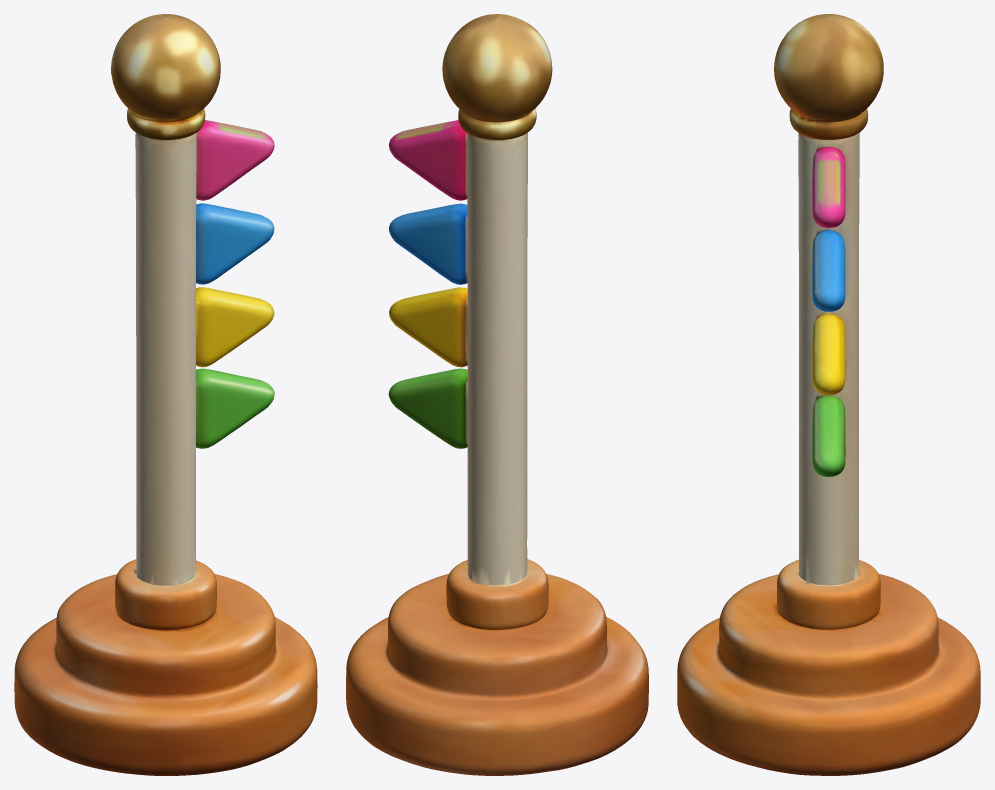
File: team-flagpole.glb
3 renders of one model, left to right at view 1: azimuth 30°, elevation 25°; view 2: azimuth 150°, elevation 25°; view 3: azimuth 270°, elevation 25°, orthographic.
Visible parts, largest first — view 1: tripo_node_68dac811-7f3c-4b89-9ffa-64b9f9a3621f; view 2: tripo_node_68dac811-7f3c-4b89-9ffa-64b9f9a3621f; view 3: tripo_node_68dac811-7f3c-4b89-9ffa-64b9f9a3621f.
Boxes of the visible parts, x1,y1,x2,y2 form: tripo_node_68dac811-7f3c-4b89-9ffa-64b9f9a3621f: (14, 14, 317, 775); tripo_node_68dac811-7f3c-4b89-9ffa-64b9f9a3621f: (346, 14, 648, 775); tripo_node_68dac811-7f3c-4b89-9ffa-64b9f9a3621f: (677, 14, 980, 775).
Bounding box in the file's own units: 0.3921 × 1 × 0.3923.
Materials: 1 (1 with a texture image).
